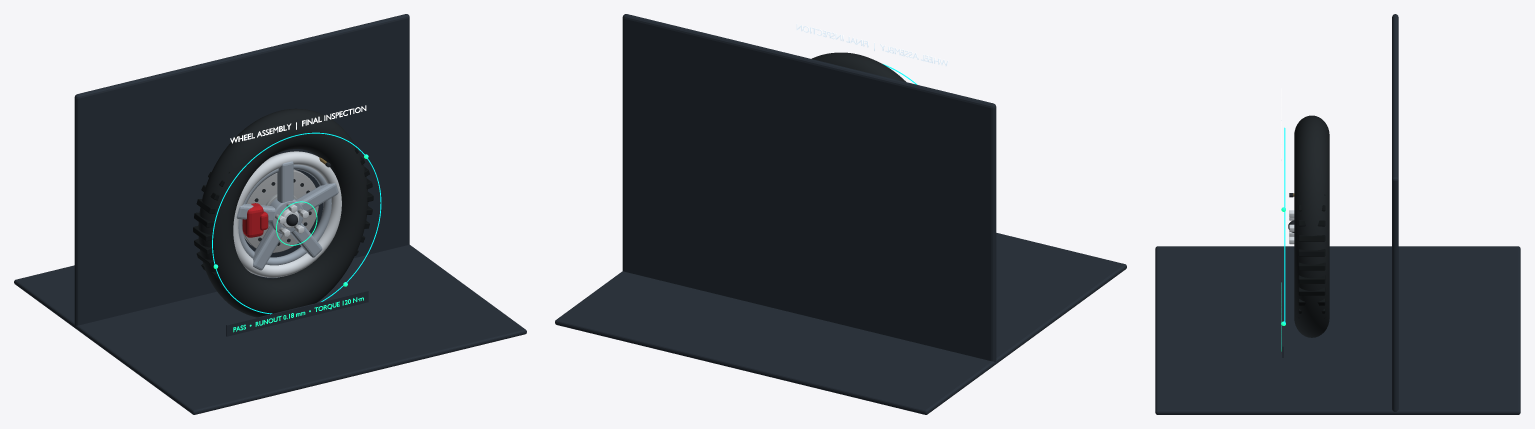
Rendered from Manufacturing_Wheel_Assembly.glb.
3 views of the same model, side by side, from view 1: azimuth 30°, elevation 25°; view 2: azimuth 150°, elevation 25°; view 3: azimuth 270°, elevation 25° (orthographic). The views are drawn at different scales.
Parts seen in each view (by area): view 1: Backdrop, Ground_Plane, Tire_Main_Radial, Alloy_Rim_Outer, QC_Status_Plaque, Brake_Disc, Alloy_Rim_Inner, Inspection_Marker_Concentricity, Alloy_Spoke_4, Alloy_Spoke_1, Alloy_Spoke_2, QC_Title (+3 smaller); view 2: Backdrop, Ground_Plane, Tire_Main_Radial, QC_Title; view 3: Ground_Plane, Tire_Main_Radial, Backdrop, Inspection_Marker_Concentricity.
Part boxes in pixels (box(x1,y1,x2,y2)): Backdrop: box(74, 14, 409, 325); Ground_Plane: box(14, 244, 526, 414); Tire_Main_Radial: box(198, 108, 368, 317); Alloy_Rim_Outer: box(233, 151, 341, 277); QC_Status_Plaque: box(226, 290, 368, 336); Brake_Disc: box(242, 169, 318, 252); Alloy_Rim_Inner: box(238, 164, 331, 265); Inspection_Marker_Concentricity: box(212, 132, 381, 314); Alloy_Spoke_4: box(252, 226, 282, 270); Alloy_Spoke_1: box(277, 161, 293, 202); Alloy_Spoke_2: box(296, 183, 338, 211); QC_Title: box(230, 105, 366, 143); Backdrop: box(622, 14, 996, 361); Ground_Plane: box(555, 233, 1126, 414); Tire_Main_Radial: box(811, 52, 905, 81); QC_Title: box(796, 24, 948, 66); Ground_Plane: box(1155, 246, 1520, 414); Tire_Main_Radial: box(1294, 115, 1329, 337); Backdrop: box(1392, 14, 1398, 411); Inspection_Marker_Concentricity: box(1284, 127, 1285, 323).
Bounding box in the file's own units: 15 × 10.05 × 14.
